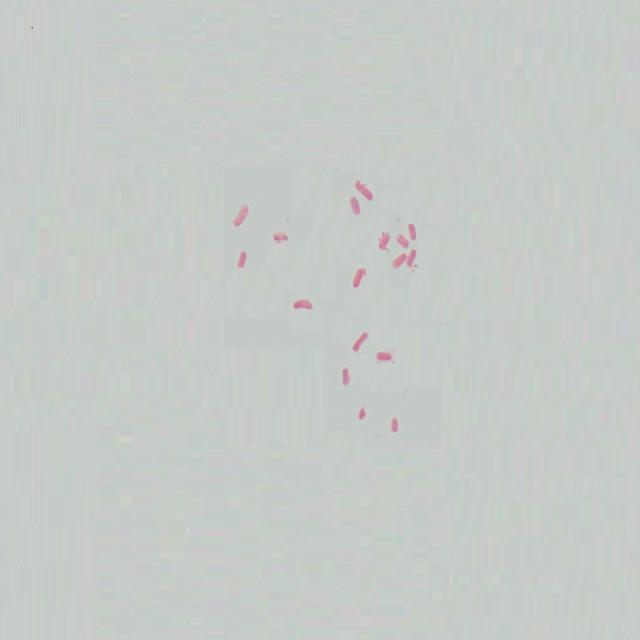E-coli: (351, 176, 379, 203), (232, 203, 250, 230), (346, 190, 363, 218), (290, 294, 315, 312), (351, 329, 368, 355), (352, 264, 368, 291), (271, 226, 290, 248), (391, 249, 407, 273), (374, 347, 393, 366), (340, 364, 351, 392), (410, 218, 422, 242), (389, 412, 401, 435), (396, 231, 409, 250), (237, 246, 246, 273), (376, 231, 387, 253), (407, 248, 418, 270), (359, 405, 369, 423)
